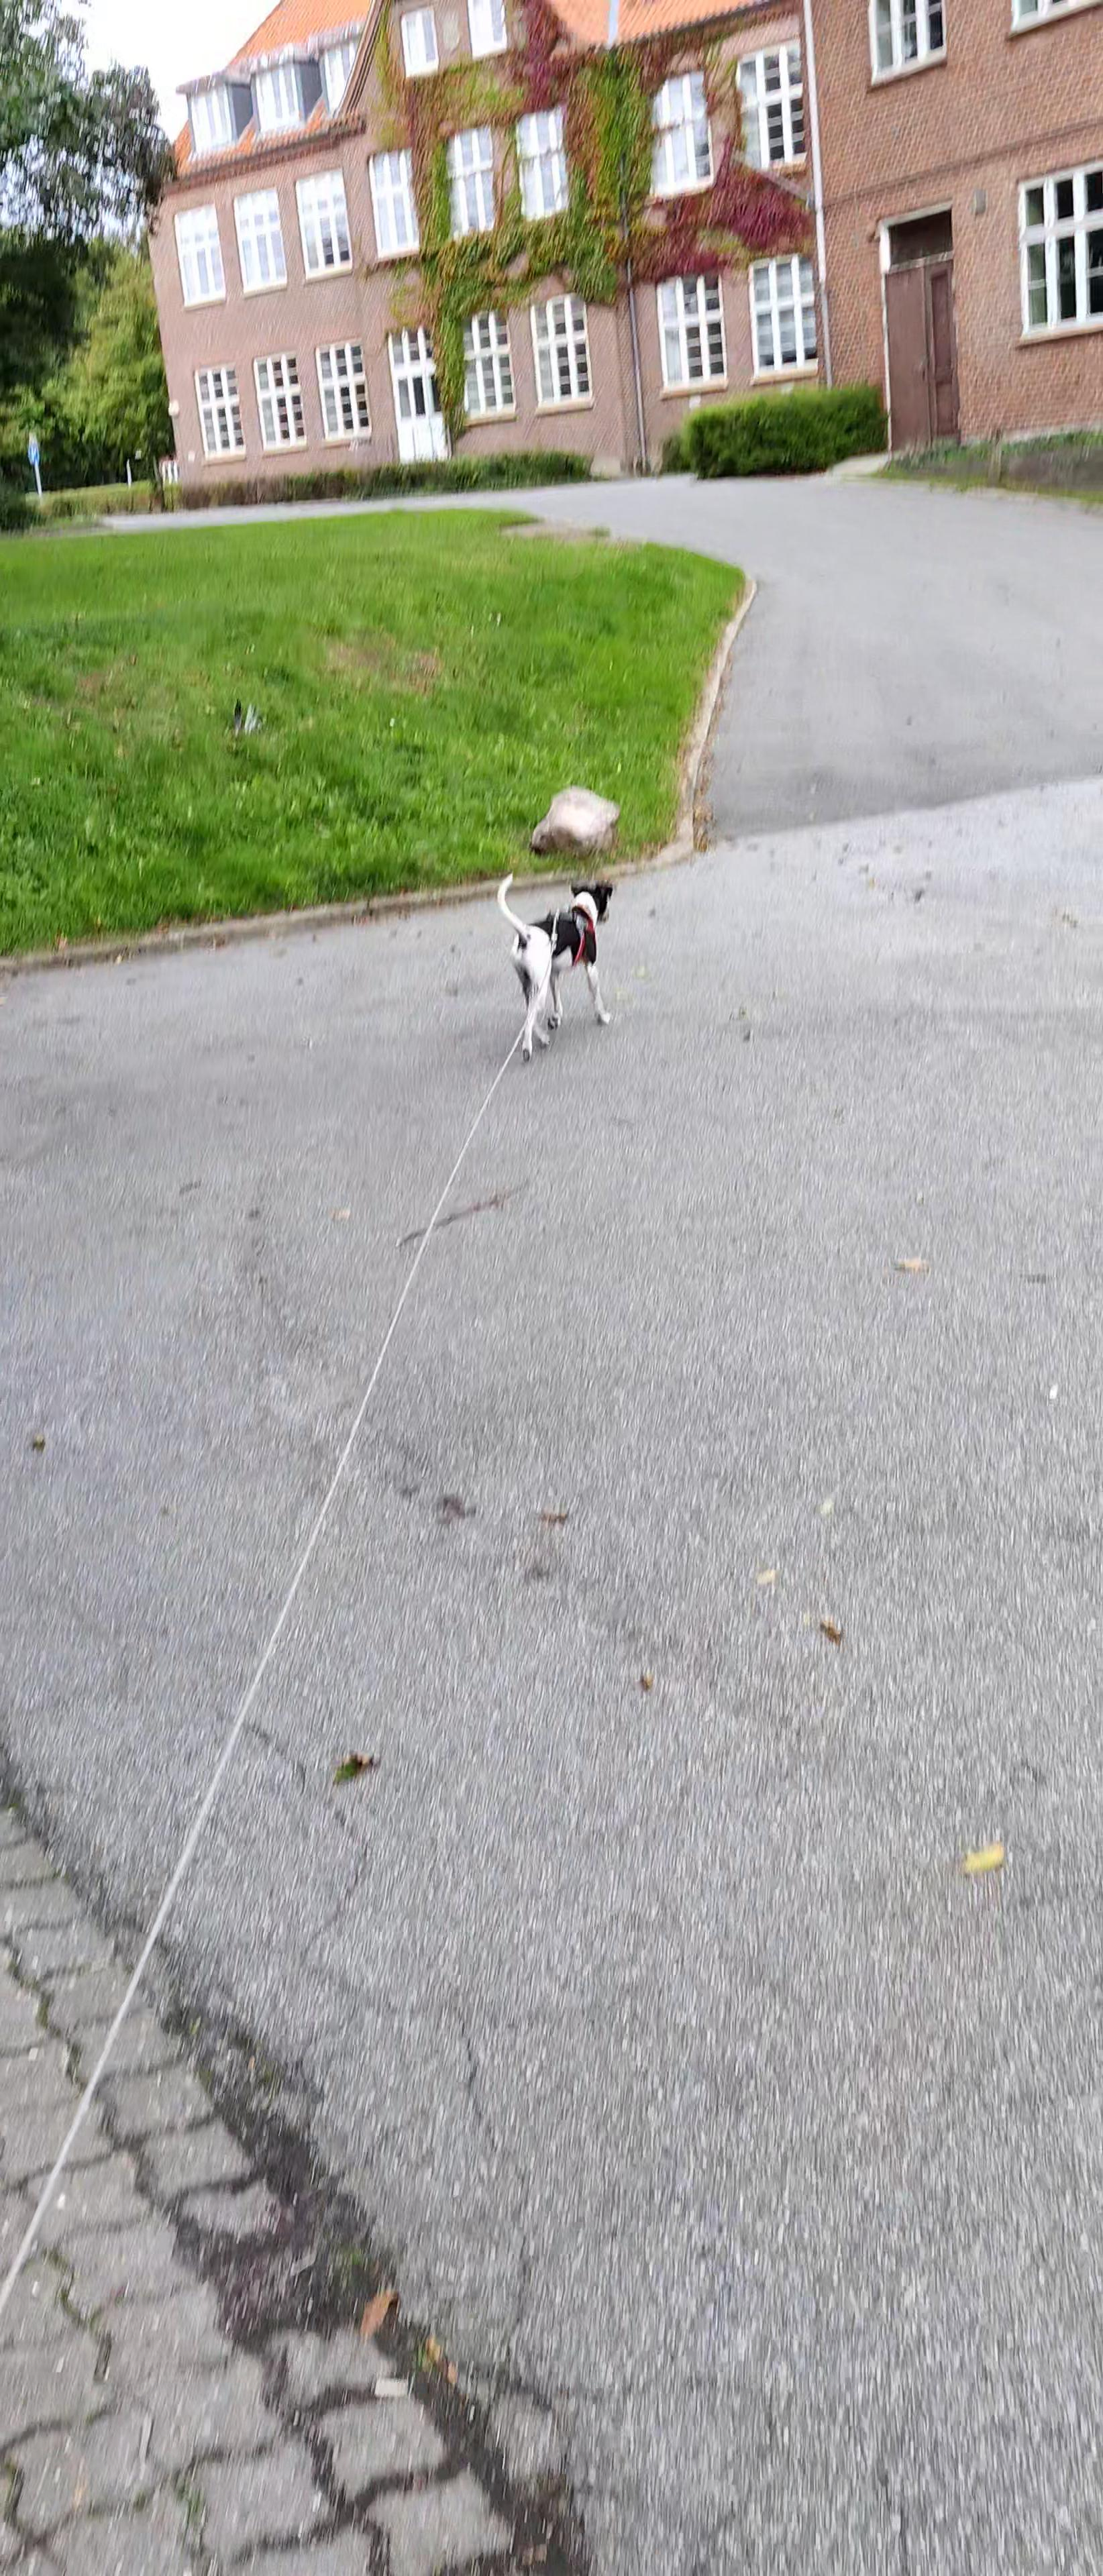Dog: (487, 867, 635, 1063)
